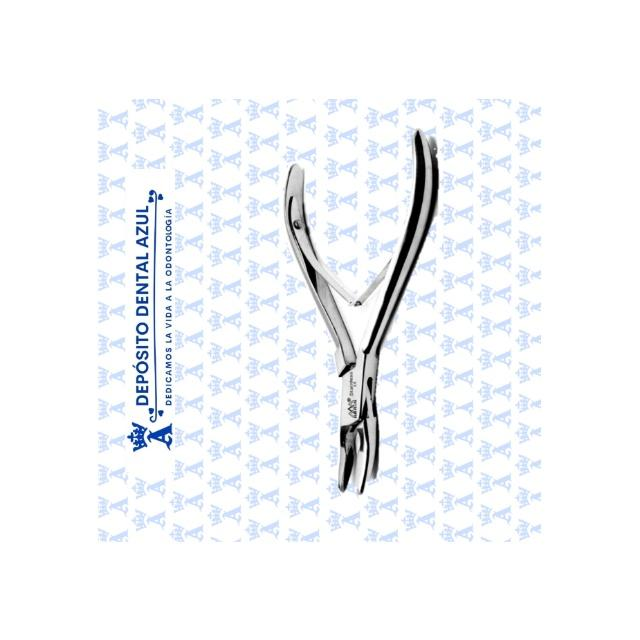gubia: (282, 131, 439, 496)
